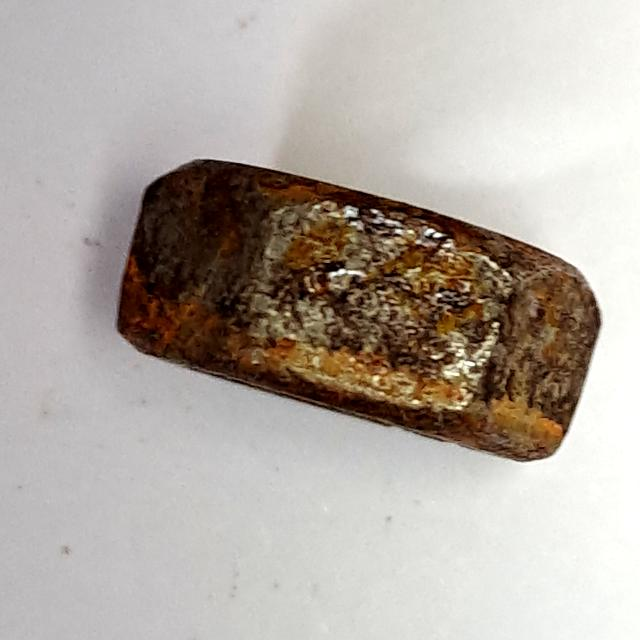Side_Rust: (100, 152, 614, 479)
